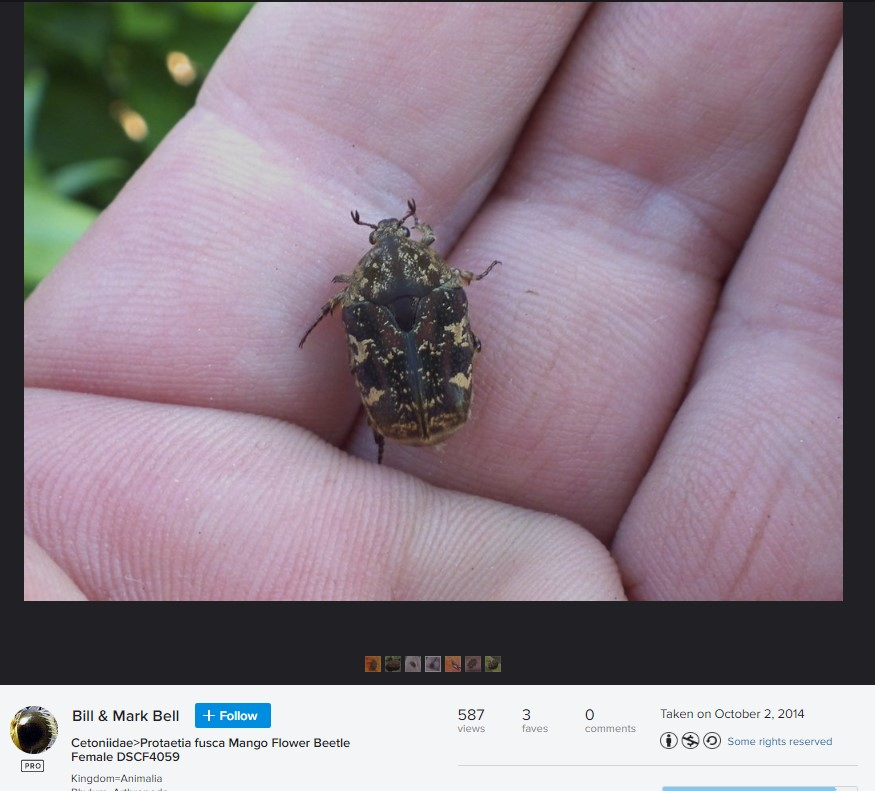Protaetia_fusca: (295, 196, 504, 471)
